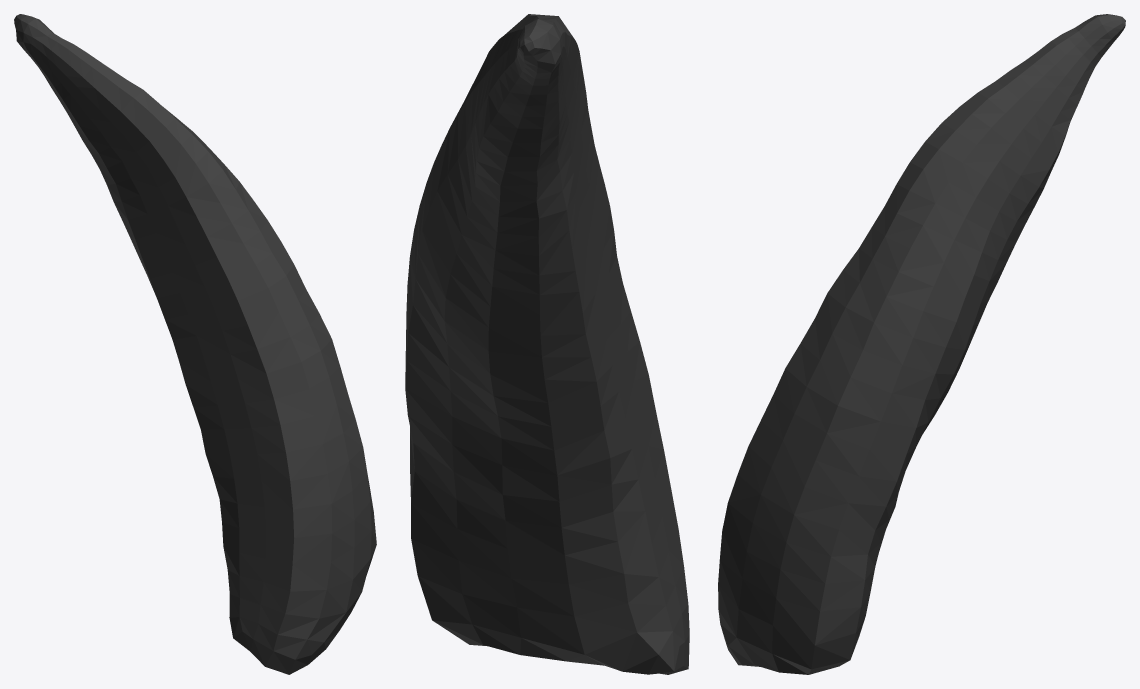
File: R_max_I2_copy000.glb
3 renders of one model, left to right at view 1: azimuth 30°, elevation 25°; view 2: azimuth 150°, elevation 25°; view 3: azimuth 270°, elevation 25°, orthographic. The views are drawn at different scales.
Parts seen in each view (by area): view 1: R_max_I2_copy000; view 2: R_max_I2_copy000; view 3: R_max_I2_copy000.
Boxes of the visible parts, x1,y1,x2,y2 form: R_max_I2_copy000: [14, 14, 376, 674]; R_max_I2_copy000: [405, 14, 689, 674]; R_max_I2_copy000: [718, 14, 1125, 674].
Bounding box in the file's own units: 0.3998 × 0.9416 × 0.5834.
1 material, 1 textured.
